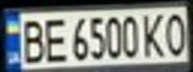0: (103, 12, 124, 60), (121, 11, 142, 58)
5: (87, 14, 109, 61)
6: (66, 14, 90, 62)
B: (15, 16, 48, 64)
E: (39, 15, 69, 63)
K: (139, 10, 169, 57)
O: (160, 9, 190, 56)
